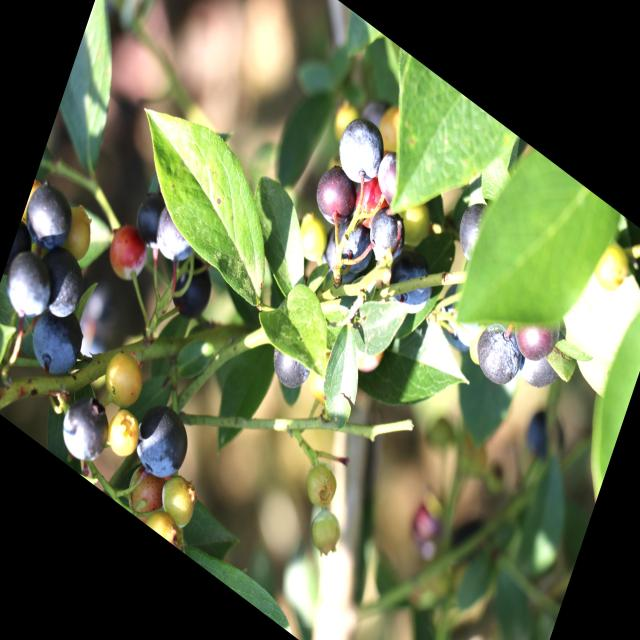blueberry: (130, 393, 197, 494), (25, 296, 91, 392), (331, 107, 390, 198), (0, 239, 59, 329), (59, 383, 116, 473), (468, 311, 526, 399), (20, 176, 78, 262), (382, 240, 439, 325), (35, 241, 91, 327), (510, 294, 566, 374), (166, 249, 219, 330), (308, 158, 360, 239), (364, 197, 414, 273), (329, 212, 378, 288), (264, 334, 315, 403), (452, 194, 494, 268), (150, 203, 196, 270), (371, 146, 410, 210), (131, 189, 171, 250)
blueberry-halfripe: (102, 218, 152, 292), (122, 460, 169, 525)
blueberry-unripe: (98, 342, 151, 419), (590, 228, 638, 303), (60, 197, 105, 270), (304, 499, 351, 568), (286, 205, 333, 272), (153, 466, 199, 534), (104, 401, 151, 467), (301, 458, 341, 516)
